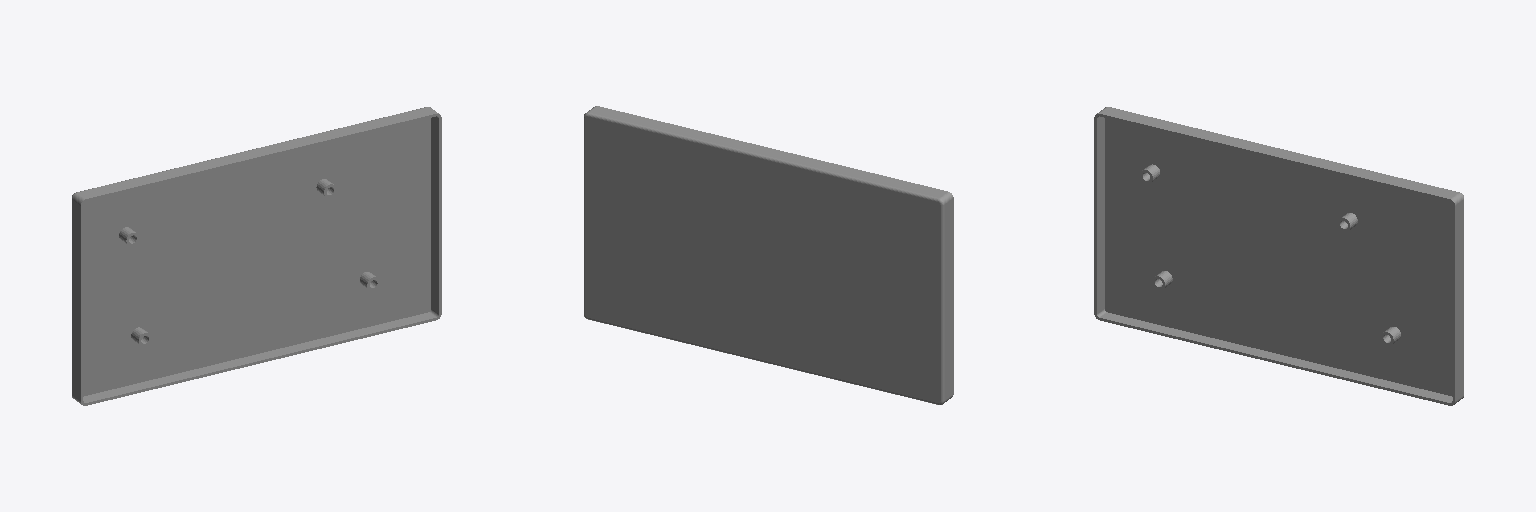
The model's file is notoppings.obj.
The picture shows the model from 3 angles: view 1: azimuth 30°, elevation 25°; view 2: azimuth 150°, elevation 25°; view 3: azimuth 330°, elevation 25°; orthographic projection.
Visible parts, largest first — view 1: notoppings; view 2: notoppings; view 3: notoppings.
Part boxes in pixels (x1,y1,x2,y2): notoppings: (72, 107, 441, 405); notoppings: (584, 106, 953, 404); notoppings: (1094, 107, 1463, 405).
Size of the model in its own units: 13.91 by 7.62 by 0.7.